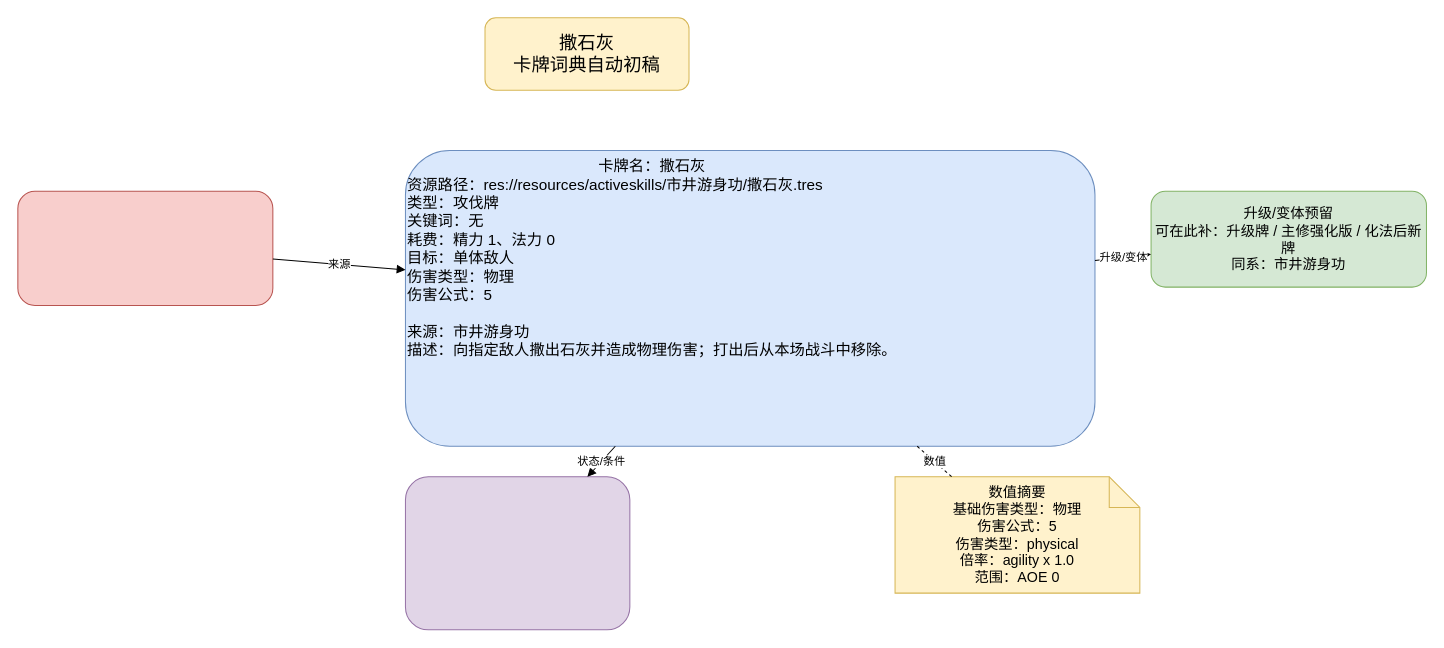
This 1444x648 diagram has some shape labels left out. The shapes that lost their labels are listed below. From the top down, each one's centre as x and y in pixels, then its label:
At [145,247]: "来源/前置 来源分类：市井游身功 来源秘籍：市井游身功 可在此补：前置牌 / 被替换牌 / 基础牌来源".
At [517,553]: "状态/关键词/条件 关键词：消耗 状态：无 功法条件：NONE 流转：无 乘势：无 应对：无".
